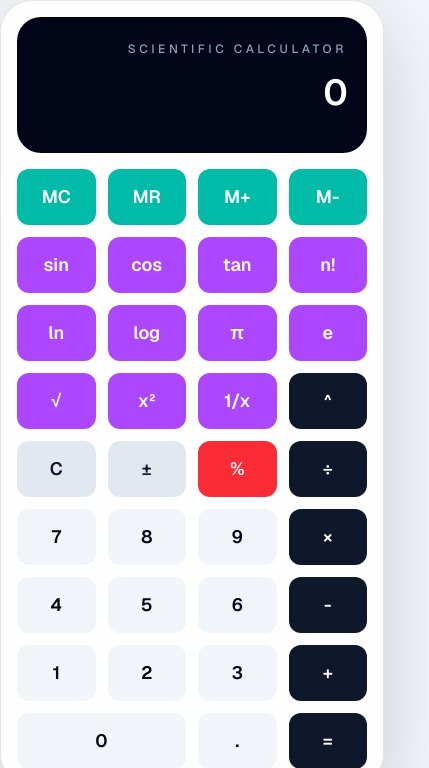
Scenario: Calculator › runs a basic addition flow
The image size is (429, 768).
Click the button "2". click: [147, 673]
box: x1=108 y1=645 x2=186 y2=701
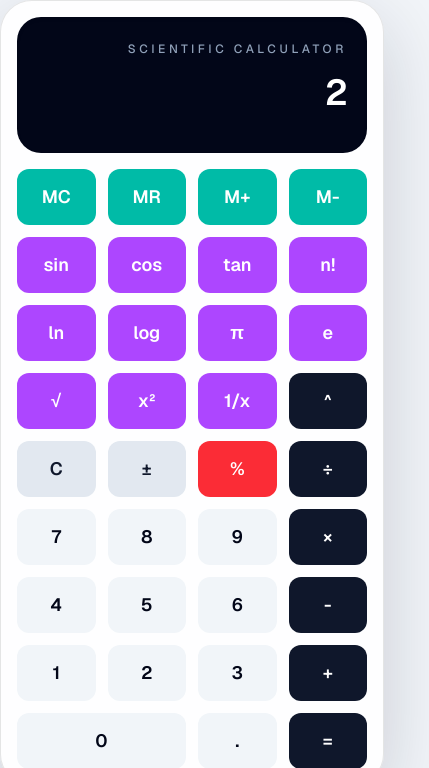
Click the button named "Add". click: [328, 673]
box: x1=288 y1=645 x2=367 y2=701
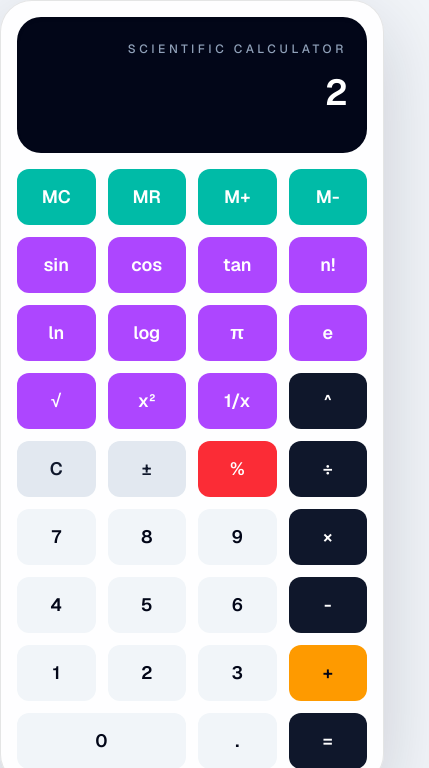
Click the button "3". click: [237, 673]
box: x1=198 y1=645 x2=276 y2=701
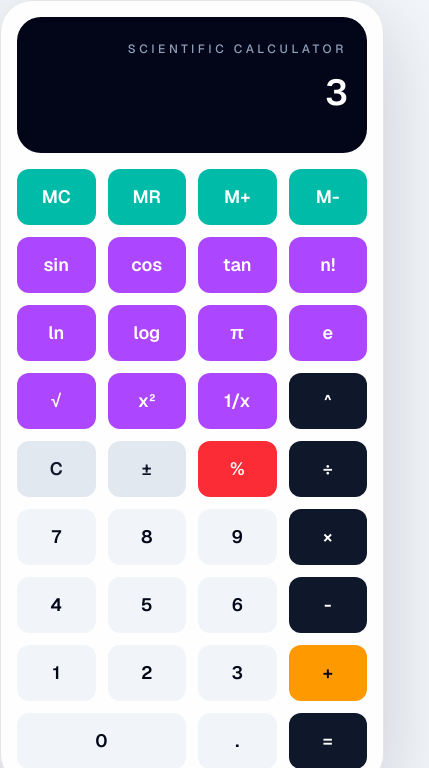
Click the button named "Equals". click: [328, 741]
box: x1=288 y1=713 x2=367 y2=767
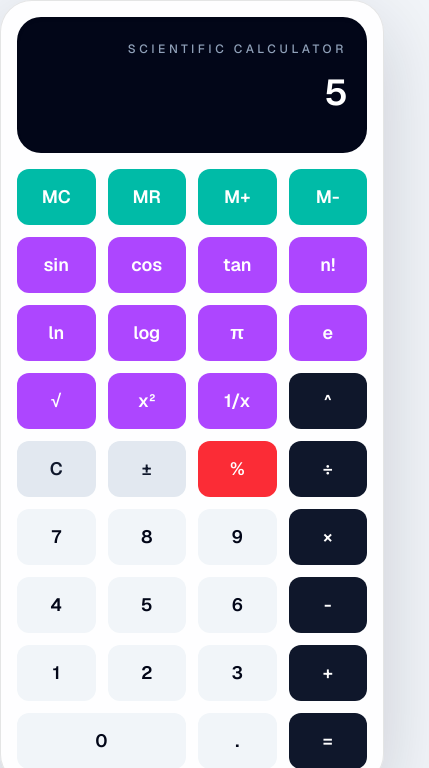
Result: the text "5" is shown at x1=324 y1=69 x2=347 y2=116
